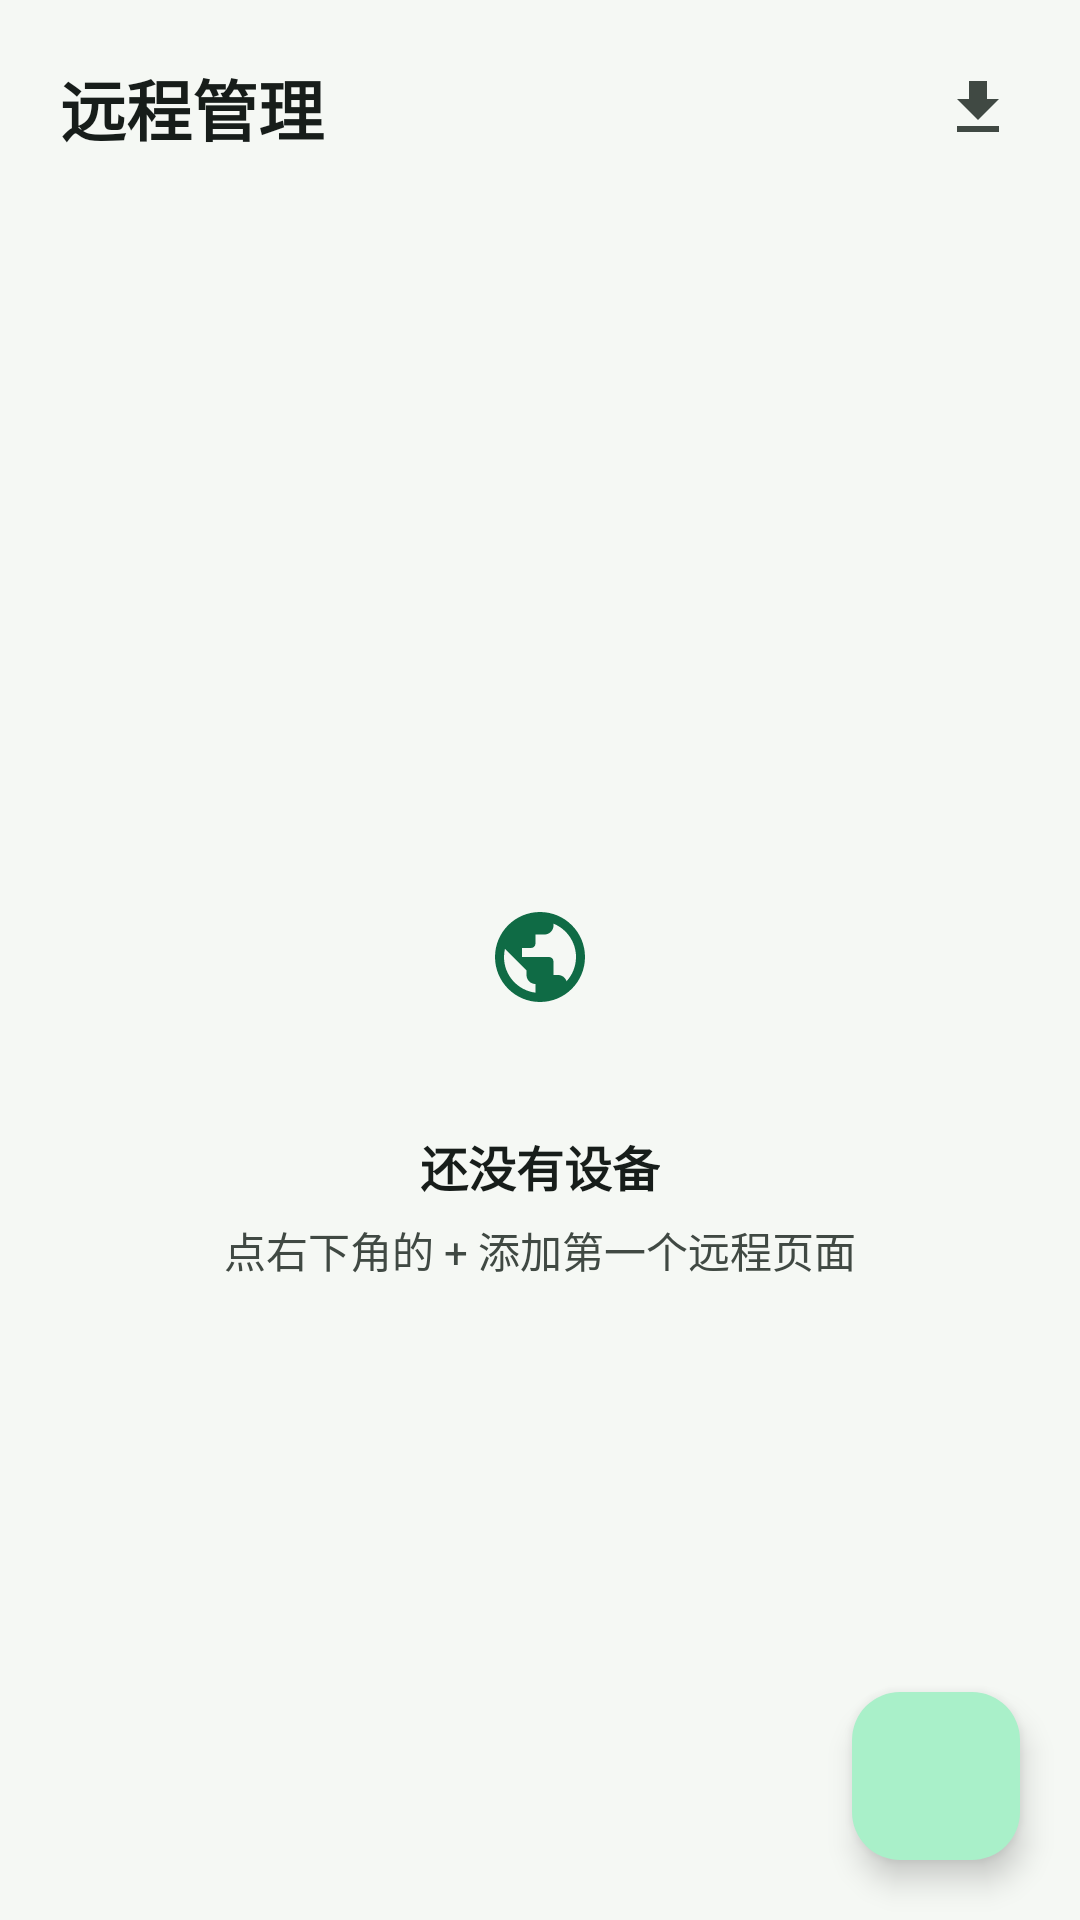

Icons on this 1080×1920 Android screen, each with its box as (left=x1, top=y1, right=x2, bottom=y2):
globe: (left=495, top=912, right=585, bottom=1002)
检查更新: (left=957, top=81, right=999, bottom=132)
